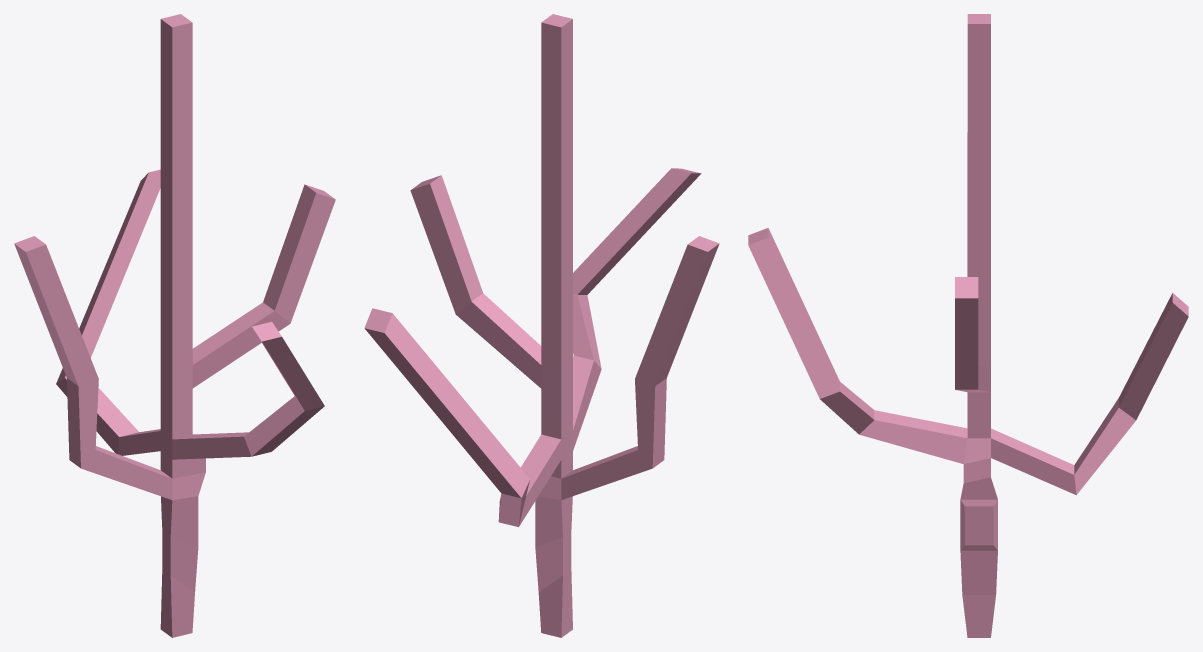
Rendered from Spider Island Level 1 Big Tree.fbx.
The picture shows the model from 3 angles, left to right: view 1: azimuth 30°, elevation 25°; view 2: azimuth 150°, elevation 25°; view 3: azimuth 270°, elevation 25°; orthographic projection.
Visible parts, largest first — view 1: Big Tree; view 2: Big Tree; view 3: Big Tree.
Boxes of the visible parts, x1,y1,x2,y2 form: Big Tree: (14,14,335,637); Big Tree: (364,14,719,637); Big Tree: (748,14,1188,637).
Size of the model in its own units: 30.11 by 57.82 by 37.6.
